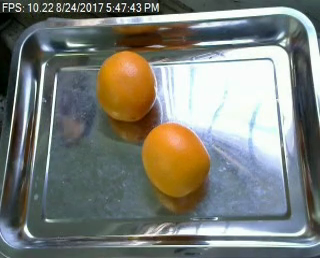Orange: (141, 121, 211, 198), (95, 50, 157, 121)
